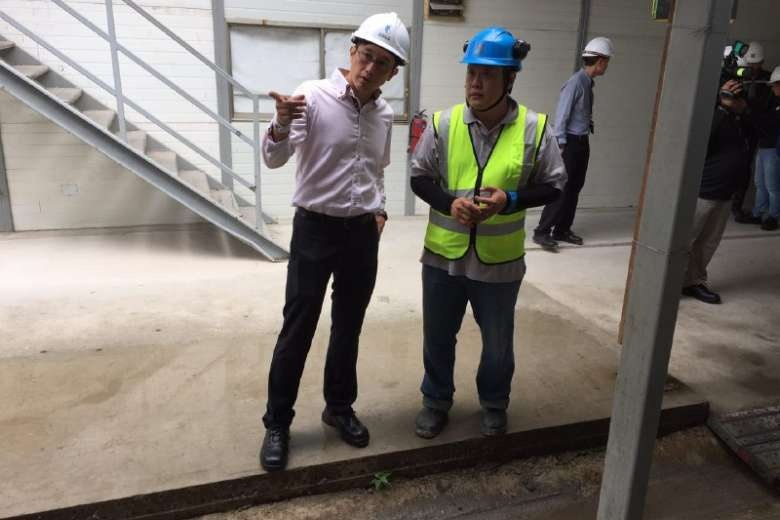blue: (461, 27, 521, 111)
white: (346, 12, 410, 91), (580, 36, 613, 77), (741, 40, 764, 72), (767, 66, 780, 97)
